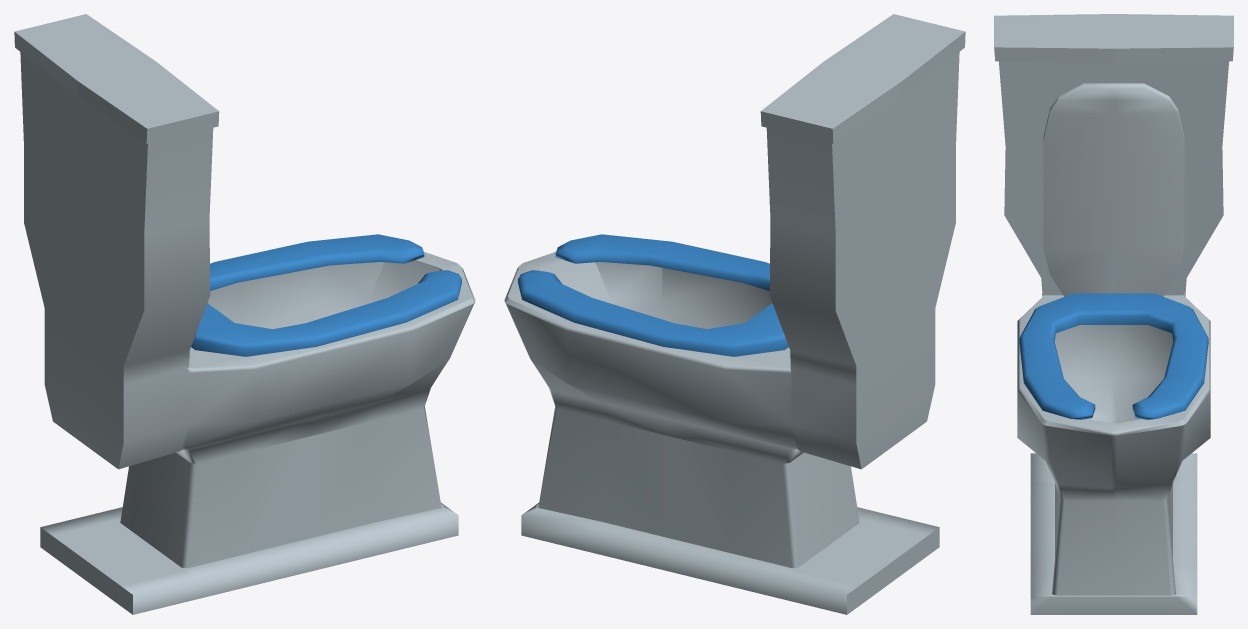
File: obj_toilet_1x1.FBX
3 views of the same model, side by side, from view 1: azimuth 30°, elevation 25°; view 2: azimuth 150°, elevation 25°; view 3: azimuth 270°, elevation 25° (orthographic). The views are drawn at different scales.
Parts seen in each view (by area): view 1: obj_toilet; view 2: obj_toilet; view 3: obj_toilet.
Boxes of the visible parts, x1,y1,x2,y2 form: obj_toilet: (14, 14, 475, 614); obj_toilet: (504, 14, 965, 614); obj_toilet: (994, 14, 1233, 614).
Size of the model in its own units: 0.6115 by 0.7651 by 0.3667.
